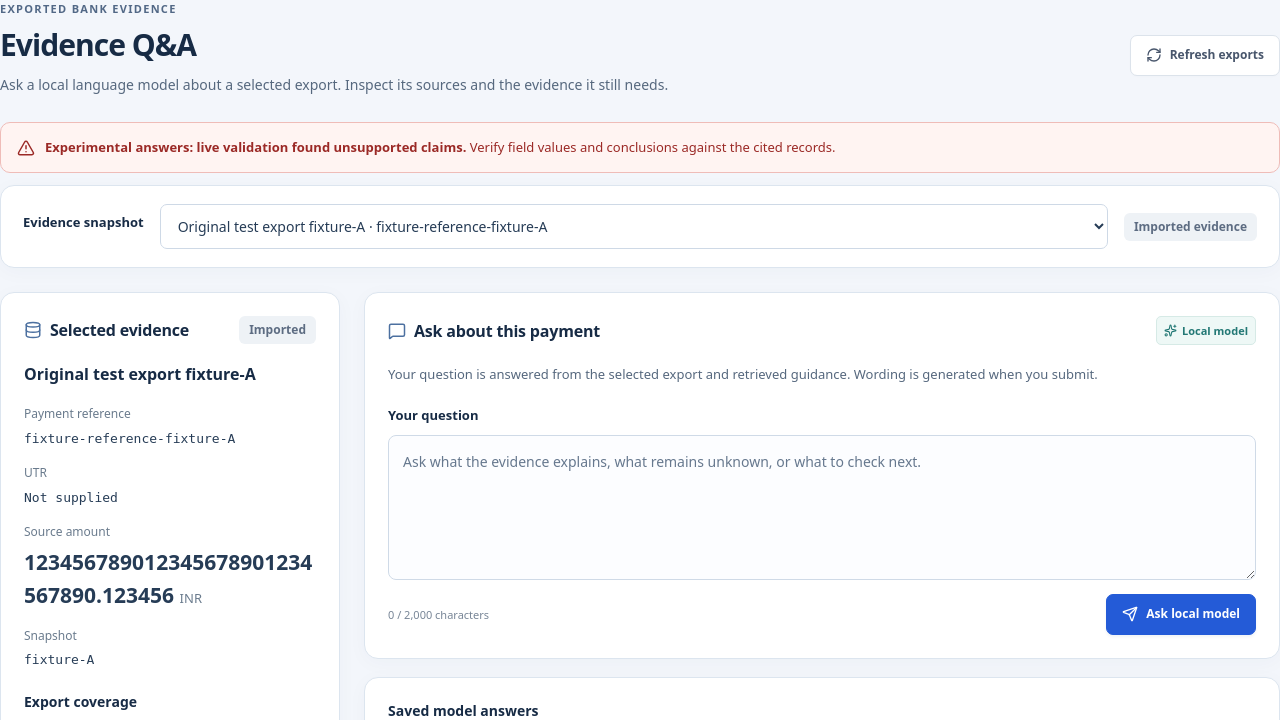
Test: UAT evidence model questions › explains 503 UAT_MODEL_BUSY without inventing an answer or discarding the question
Replace the text in the text box labelled "Your question" with "Explain the available export." at [822, 507], box [388, 434, 1256, 580]
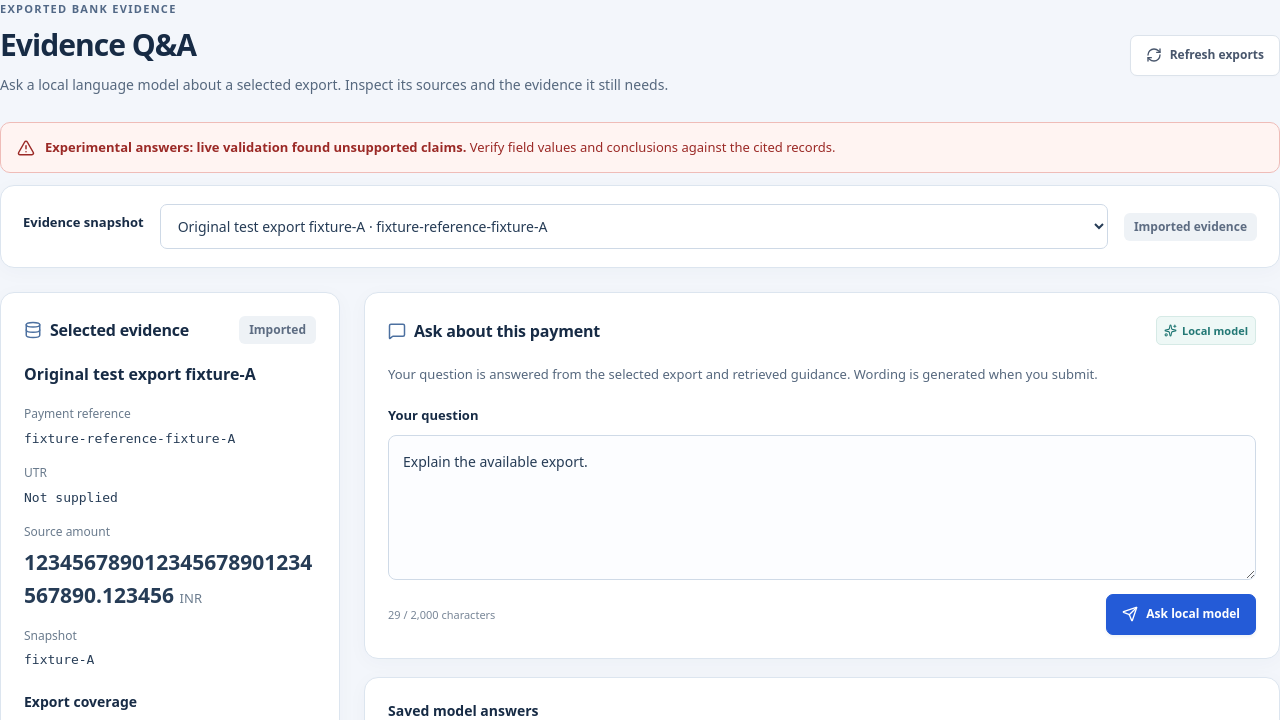
Submit the form labelled "Your question", box [388, 405, 1256, 635]
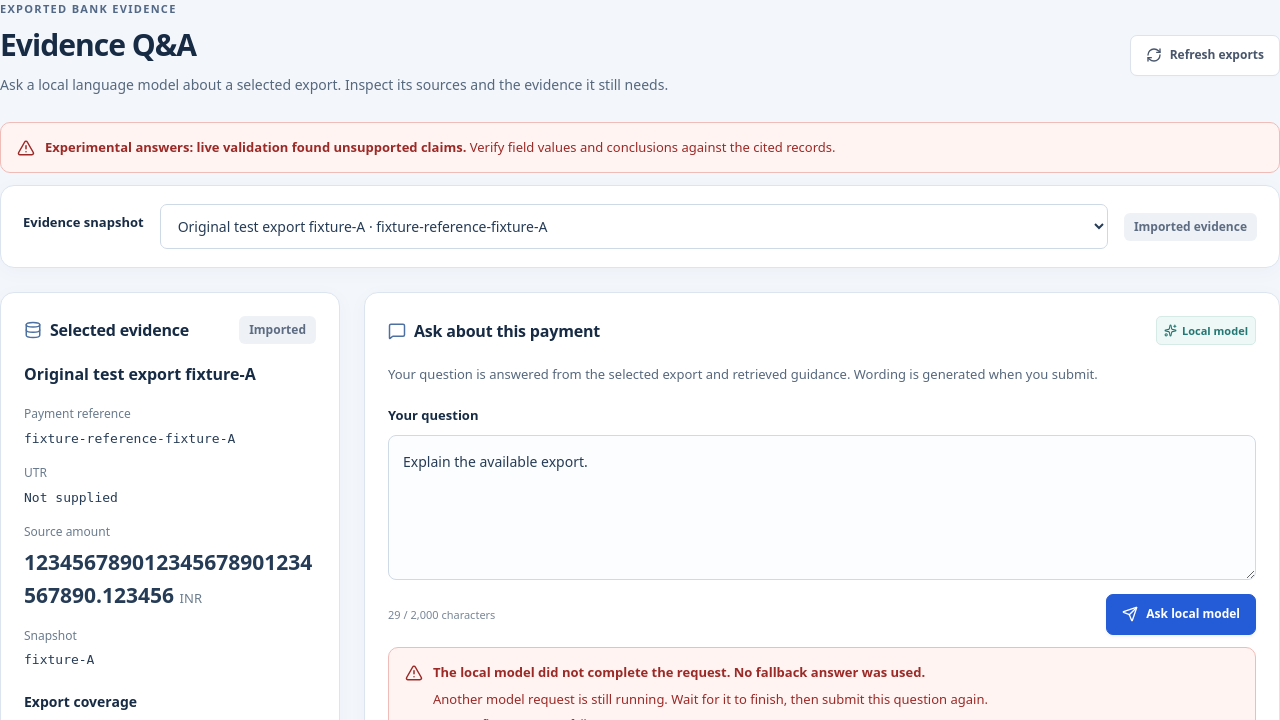
expect the button "Ask local model" is enabled: met, box [1106, 594, 1256, 635]
expect the message shows "Another model request is still running.": met, box [433, 690, 988, 708]
expect the message shows "No fallback answer was used.": met, box [433, 663, 925, 681]
